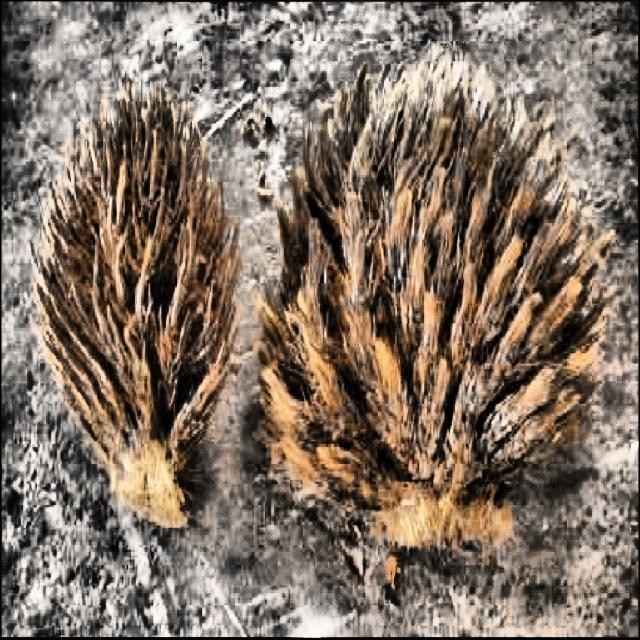FFB: (253, 58, 584, 550), (45, 104, 233, 522)
